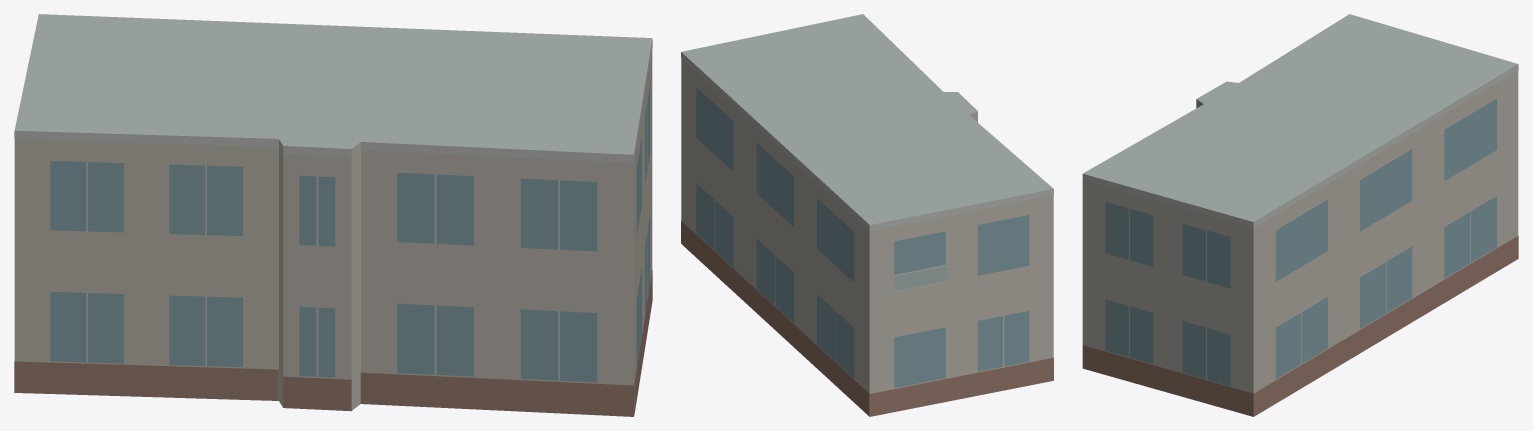
Rendered from survey-upis-32920380.glb.
The picture shows the model from 3 angles, left to right: view 1: azimuth 30°, elevation 25°; view 2: azimuth 150°, elevation 25°; view 3: azimuth 270°, elevation 25°; orthographic projection. The views are drawn at different scales.
Parts seen in each view (by area): view 1: survey-upis-32920380.tmp; view 2: survey-upis-32920380.tmp; view 3: survey-upis-32920380.tmp.
Part boxes in pixels (x1,y1,x2,y2): survey-upis-32920380.tmp: [14, 14, 652, 416]; survey-upis-32920380.tmp: [681, 14, 1053, 416]; survey-upis-32920380.tmp: [1082, 14, 1518, 416].
Size of the model in its own units: 17.65 by 7.7 by 15.62.
